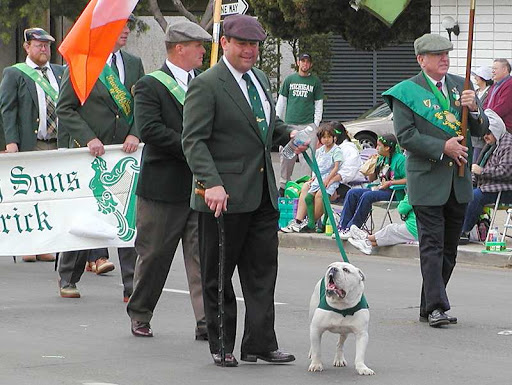dog: (302, 257, 385, 377)
person: (177, 9, 313, 372), (380, 29, 495, 336), (121, 15, 213, 348), (54, 6, 149, 313), (1, 20, 68, 151), (273, 49, 328, 198), (335, 132, 409, 240), (281, 125, 344, 235)
